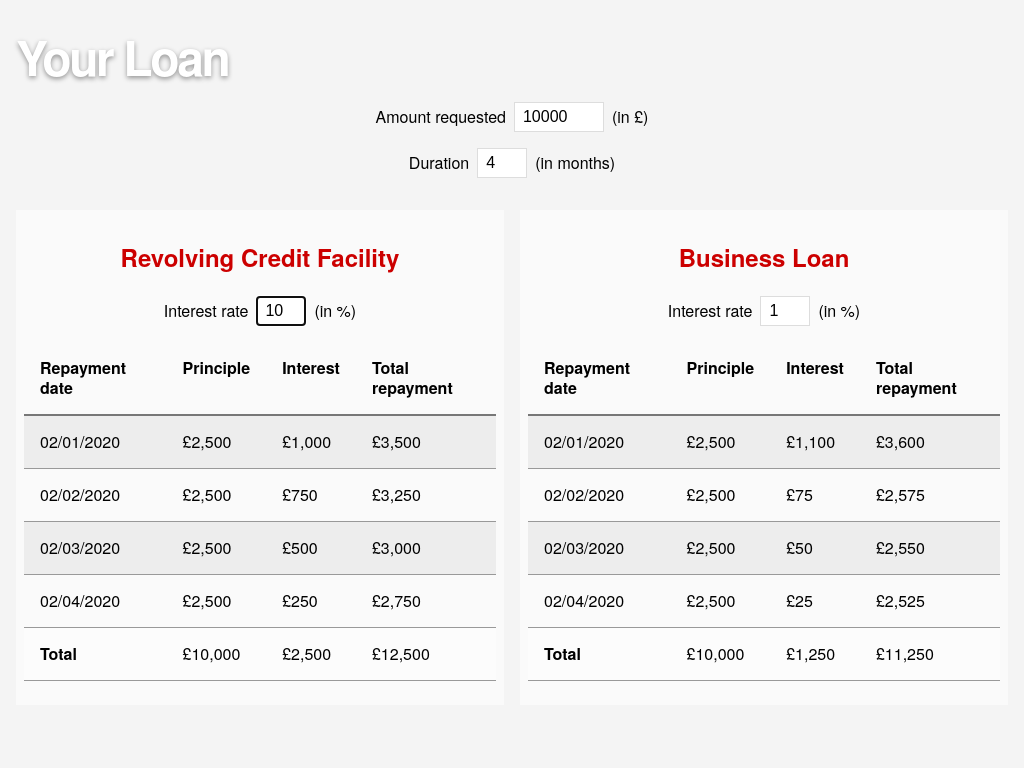
Test: Loan Calculator App › Calculates totals for Business Loan
Replace the text in the number field with id "business-loan-interest-rate" with "3" at (785, 311), box [760,296,810,326]
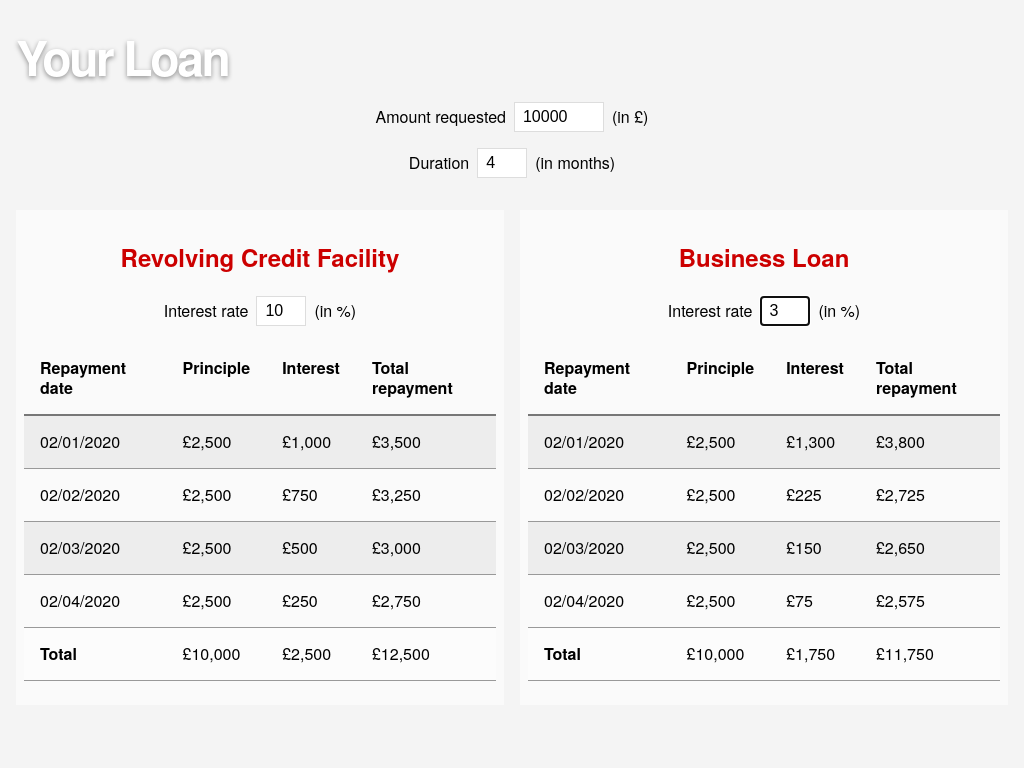
Expected: the text "£10,000" next to "£1,750" is shown, [687,642,745,665]
Now the text "£1,750" is shown, box [770,627,860,680]
Now the text "£11,750" is shown, box [860,627,1000,680]
Replace the text in the number field with id "business-loan-interest-rate" with "10" at (785, 311), box [760,296,810,326]
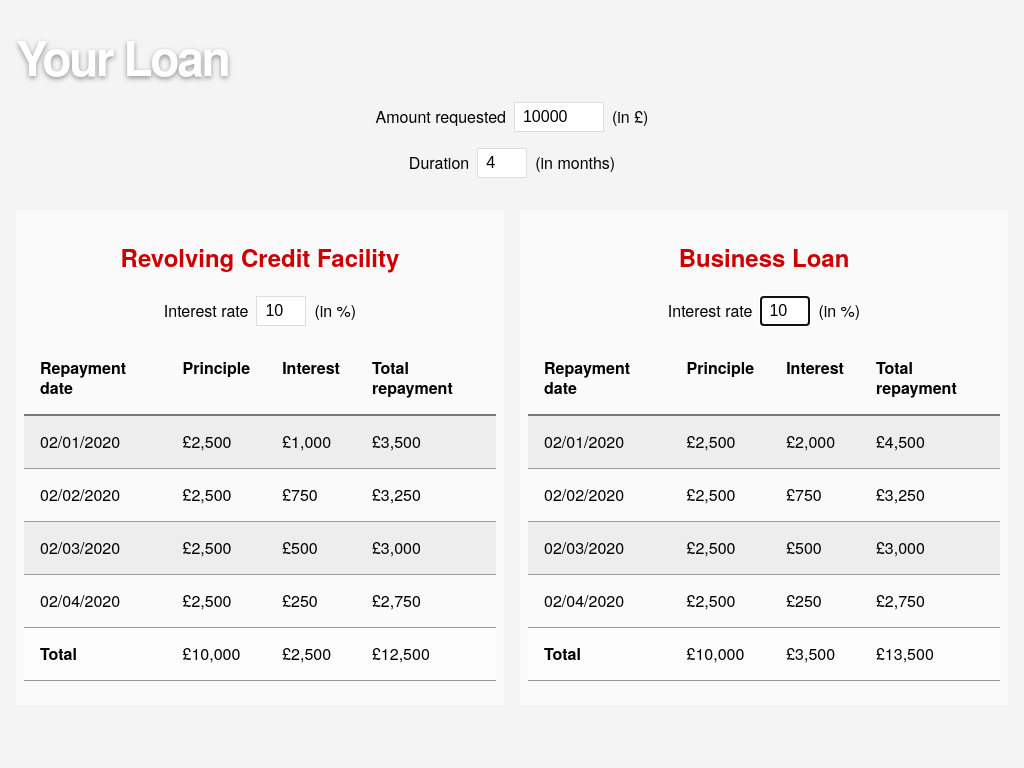
Expected: the text "£10,000" in the row of "£13,500" is shown, [687,642,745,665]
Now the text "£3,500" next to "£13,500" is shown, box [786,642,835,665]
Now the text "£13,500" is shown, box [860,627,1000,680]
